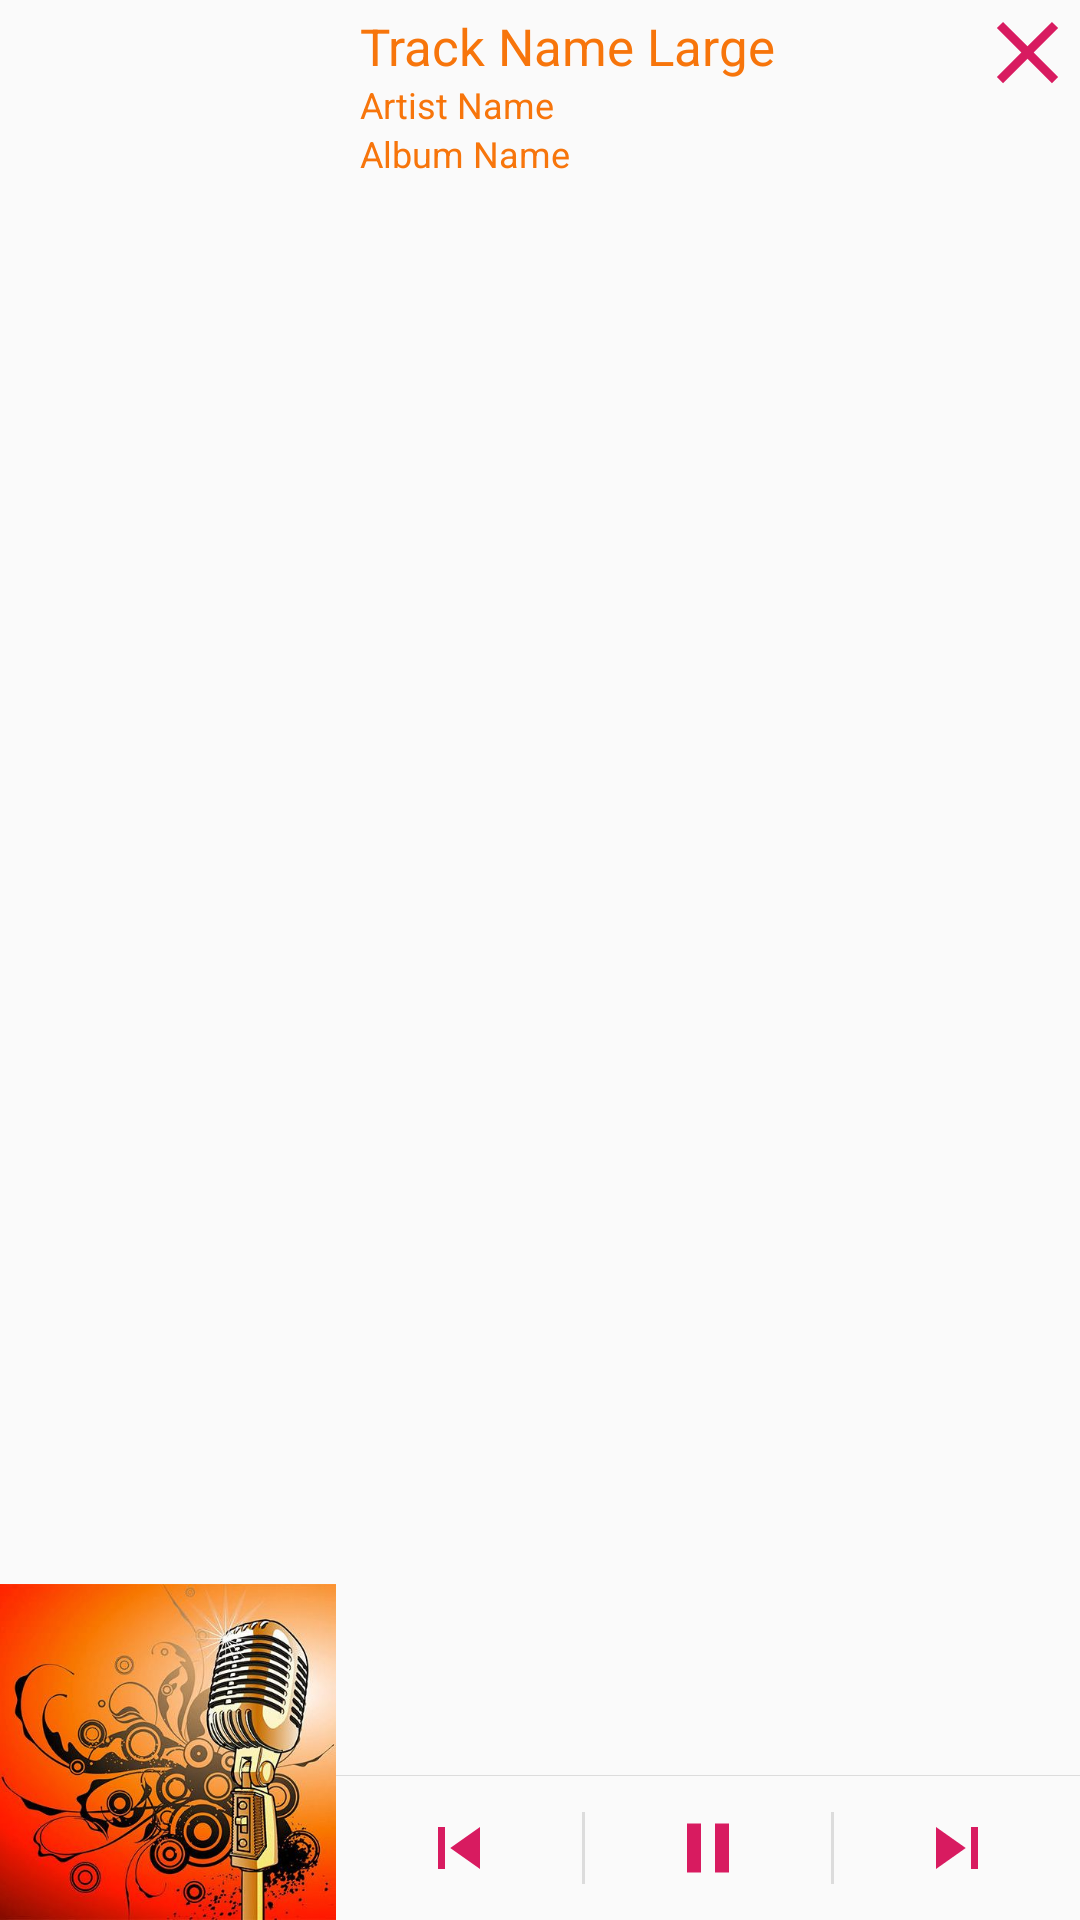

Named icons in this screenshot (1080 × 1920) and their bounding boxes, (x1, y1, x2, y2):
close: (997, 22, 1058, 83)
music: (0, 1584, 336, 1920)
pause: (687, 1823, 729, 1873)
skip next: (936, 1827, 978, 1869)
skip previous: (438, 1827, 480, 1869)
